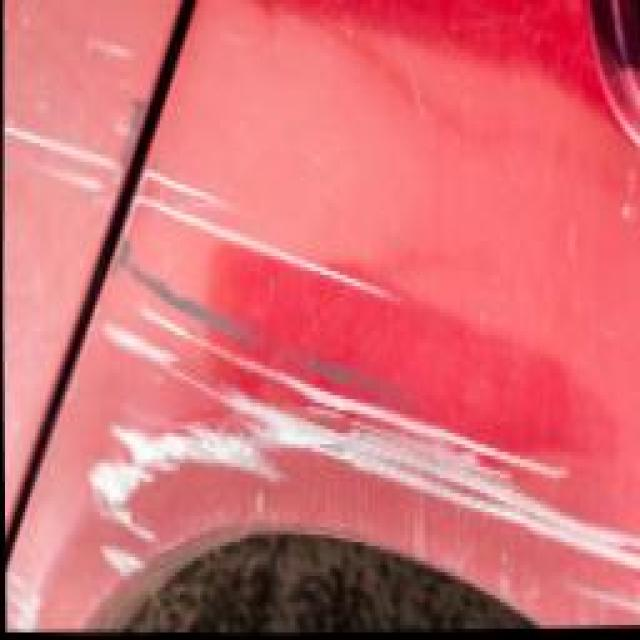Door: (2, 0, 139, 226)
Fender: (2, 139, 639, 640)
